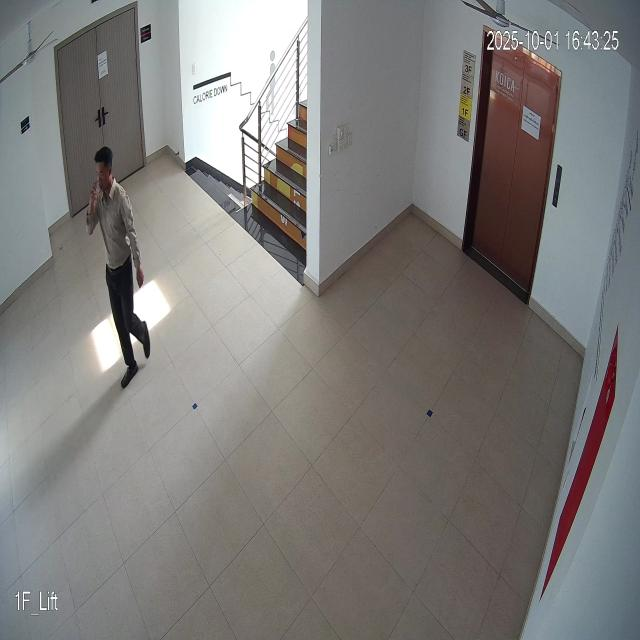face: (89, 138, 114, 197)
